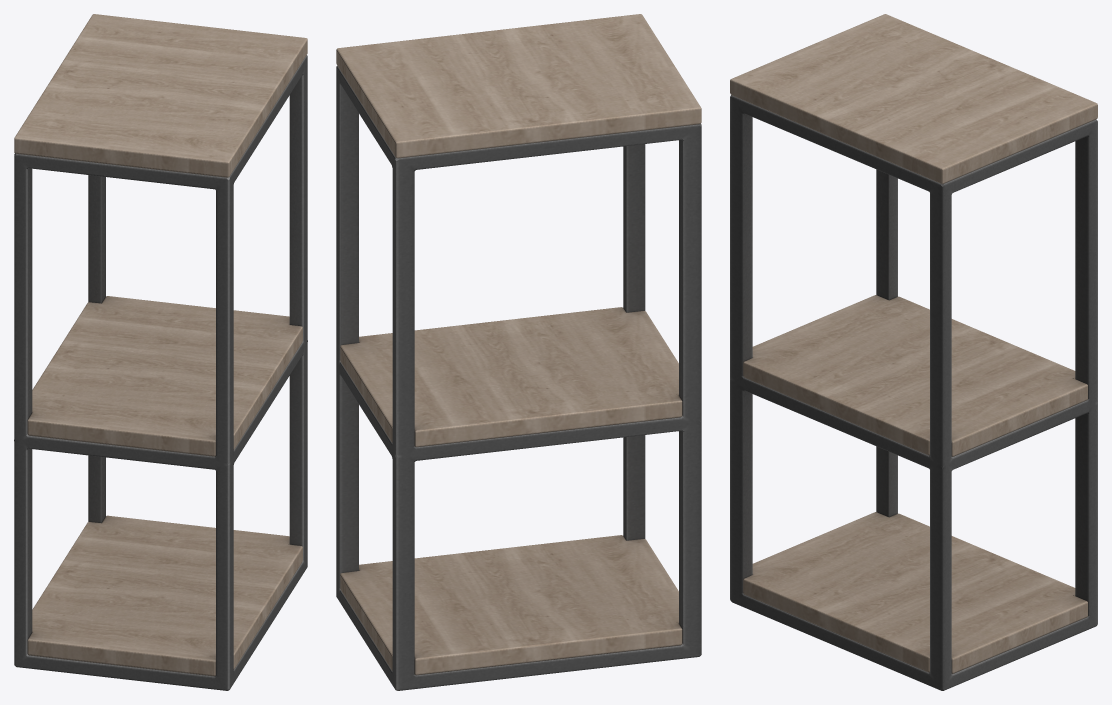
The model's file is 6_f10369ae-7b27-46b9-aeeb-3ef930a70aaa.obj.
The picture shows the model from 3 angles, left to right: view 1: azimuth 30°, elevation 25°; view 2: azimuth 150°, elevation 25°; view 3: azimuth 270°, elevation 25°; orthographic projection. The views are drawn at different scales.
Bounding box in the file's own units: 0.6333 × 0.9937 × 0.6333.
Materials: 1 (1 with a texture image).
